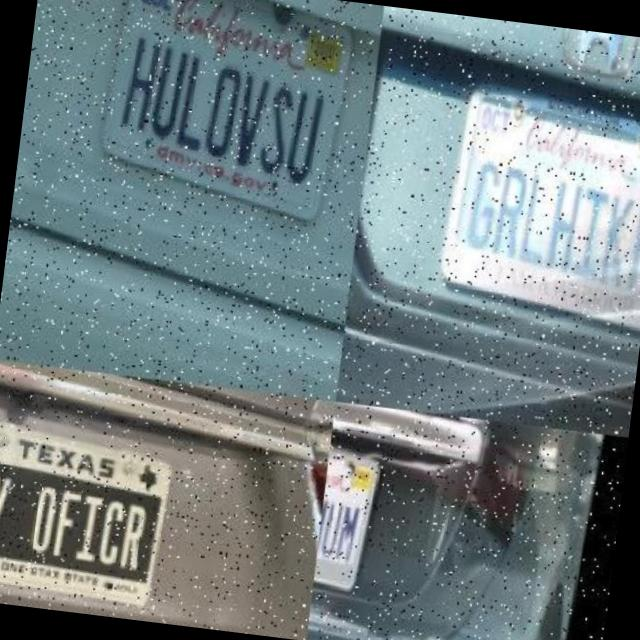LicensePlate: (90, 0, 362, 233), (429, 74, 640, 334), (0, 416, 174, 598), (314, 437, 399, 591)
